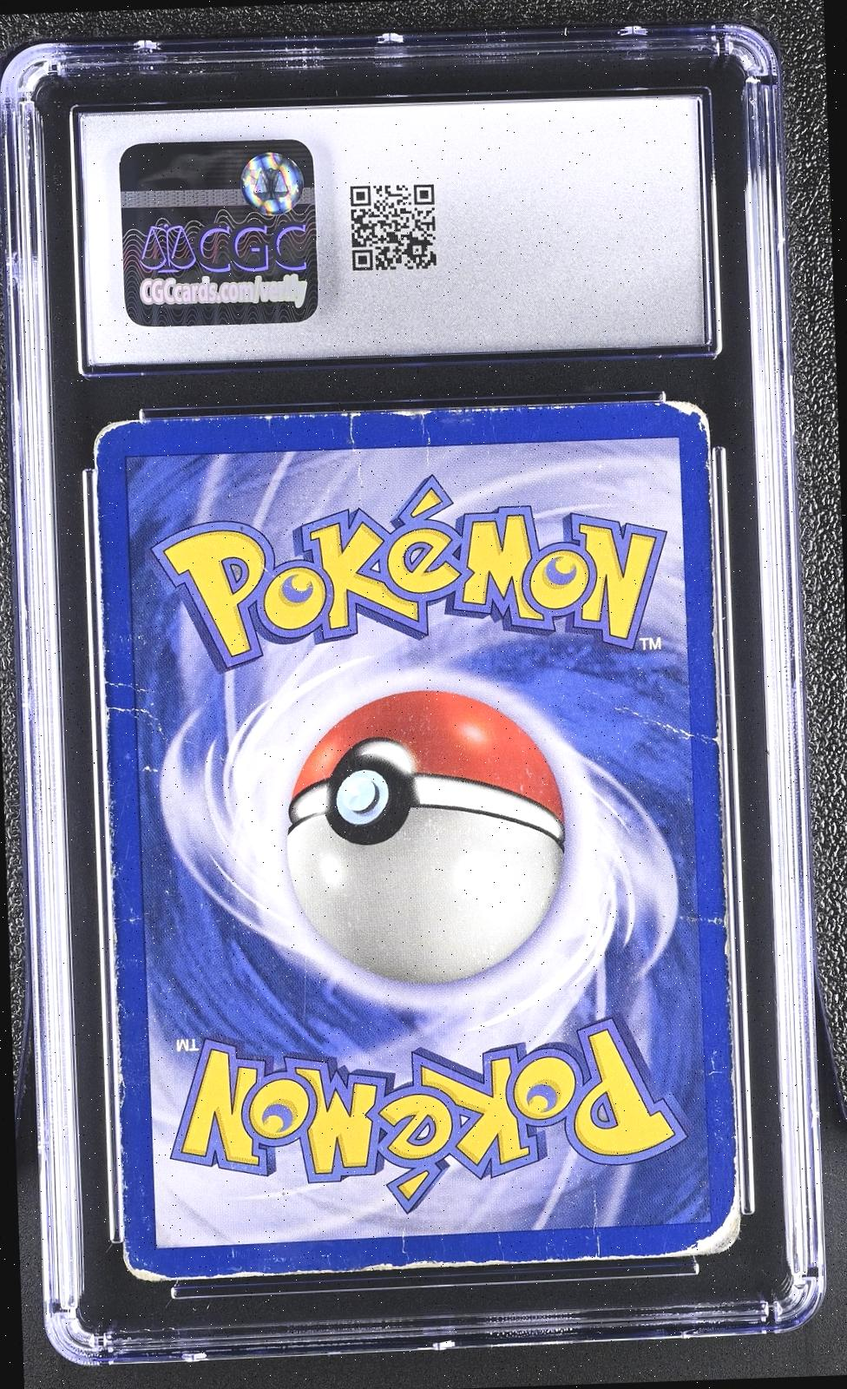card-2UtV: (93, 400, 741, 1281)
